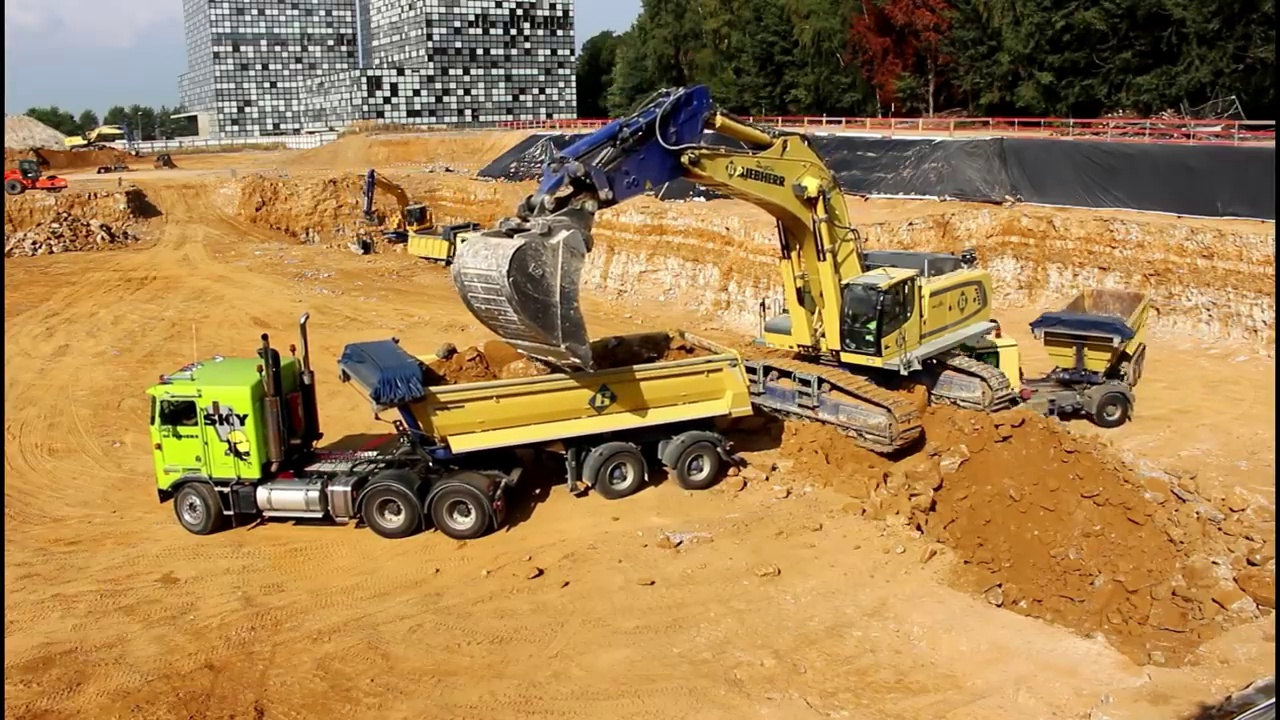compactor: (5, 162, 68, 199)
excavator: (450, 81, 1022, 457), (352, 164, 447, 251), (63, 123, 145, 165)
truck: (142, 309, 761, 544), (940, 285, 1164, 430), (406, 219, 490, 279)
